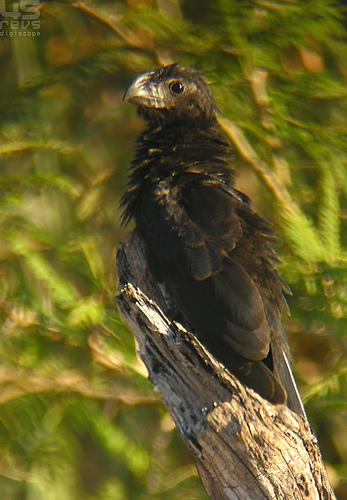004.Groove_billed_Ani: (117, 60, 311, 433)
